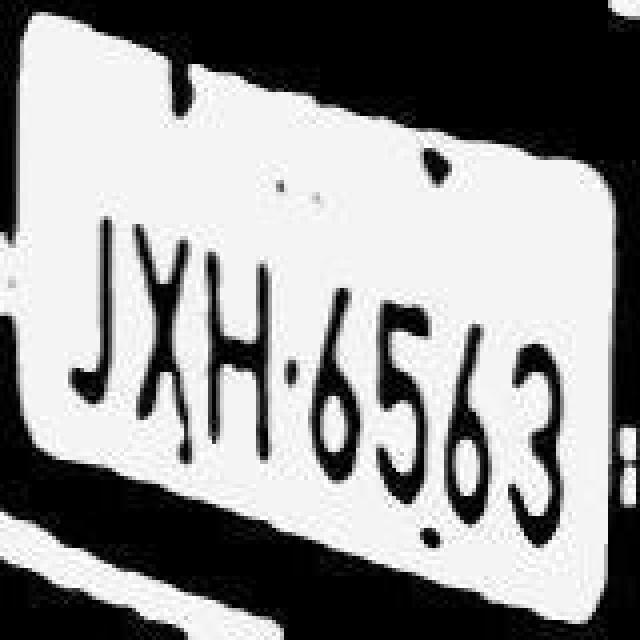3: (506, 298, 578, 558)
5: (374, 262, 438, 522)
6: (442, 290, 506, 534), (304, 258, 364, 518)
H: (204, 222, 280, 474)
J: (62, 190, 126, 450)
X: (122, 210, 194, 438)
